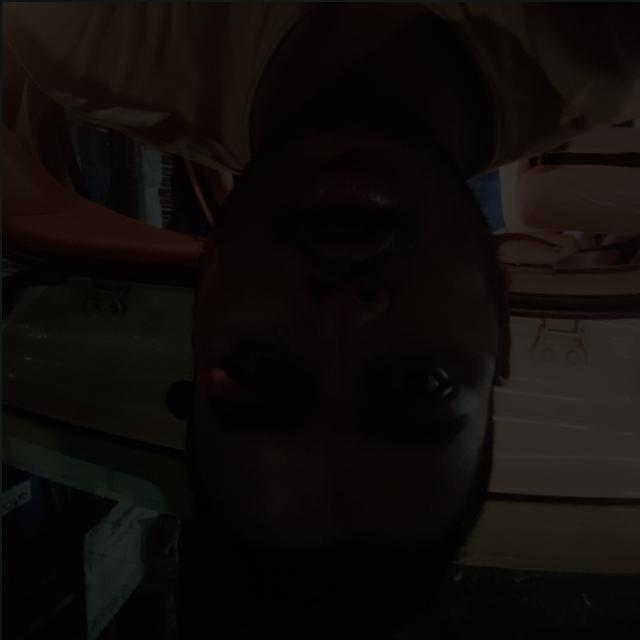Surprised: (169, 160, 542, 542)
